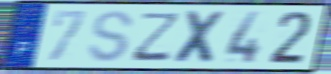2: (266, 10, 314, 66)
4: (222, 9, 264, 66)
7: (48, 9, 88, 64)
S: (86, 9, 136, 64)
X: (171, 9, 229, 66)
Z: (128, 11, 184, 63)
